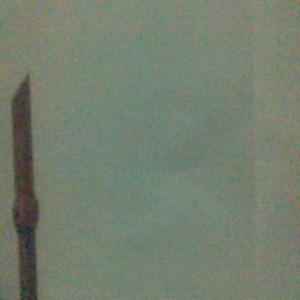cutter: (9, 73, 42, 300)
